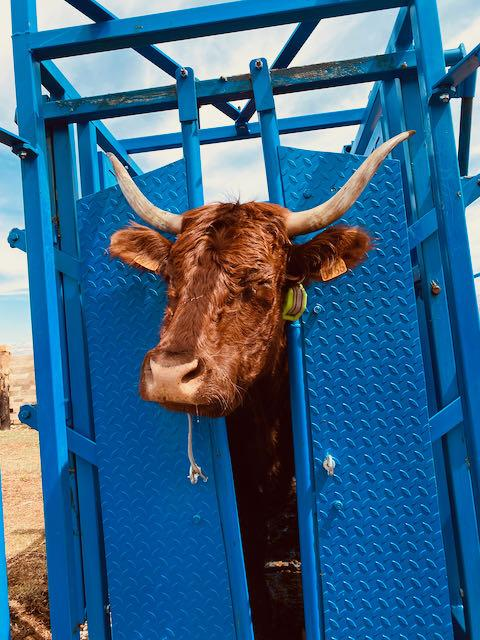muzzles: (127, 343, 236, 421)
